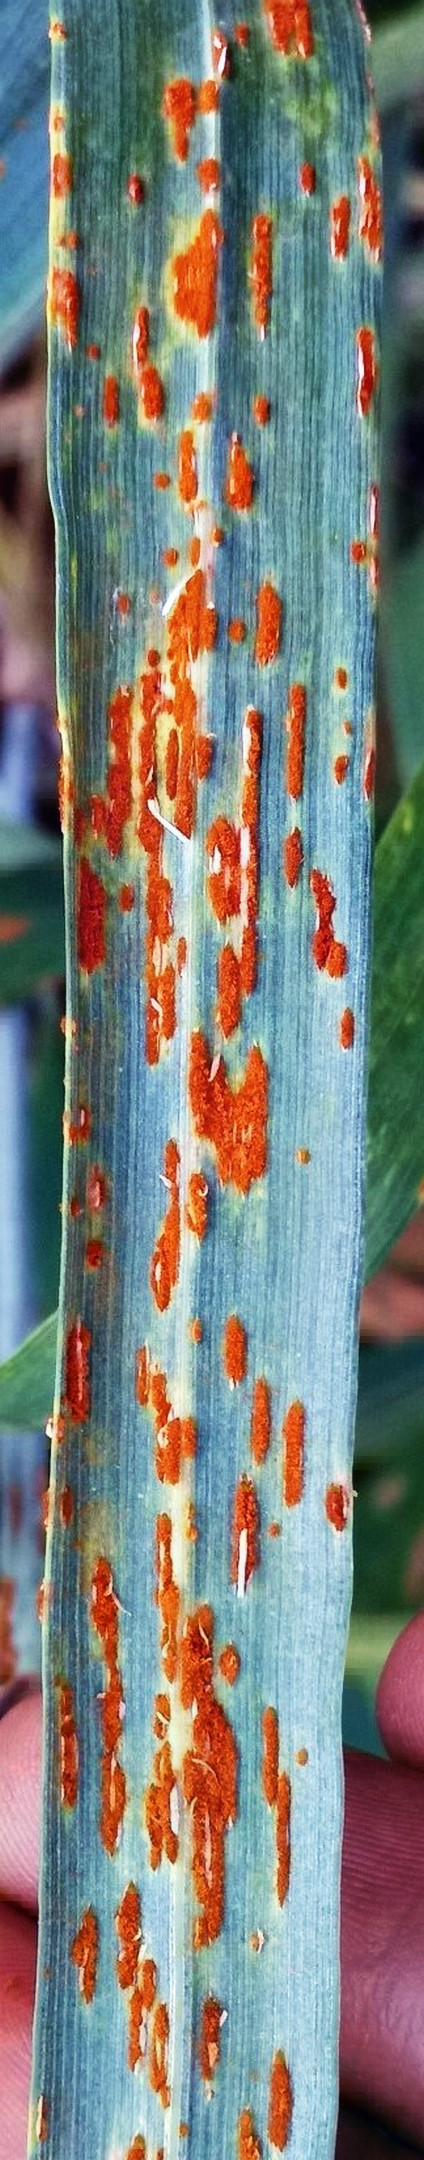Leaf Rust: (11, 136, 374, 2121)
